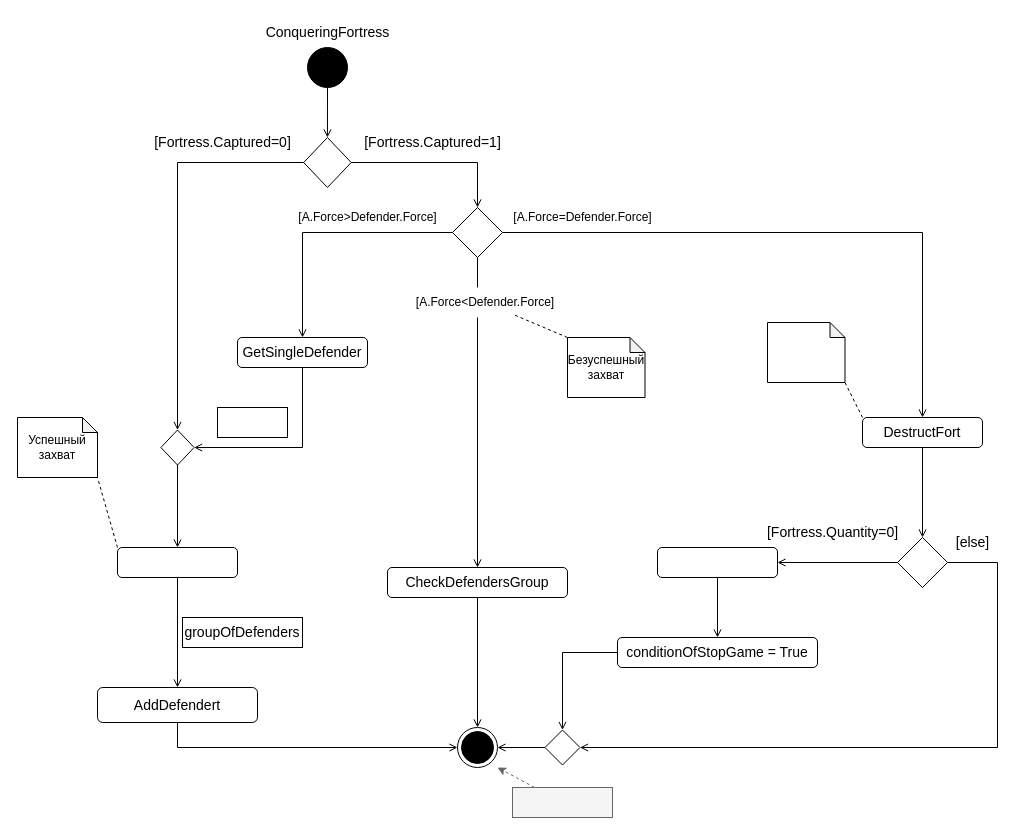
Image size: 1023x835. Some labels were removed from this diagram. The shapes that lost their labels are listed below. From the top down, each one's box as (x1, y1, x2, y2) in pixels, then its label:
(766, 322, 845, 382): Форт разрушен
(216, 406, 288, 438): character
(116, 546, 238, 578): CaptureFort
(656, 546, 778, 578): DefineWinner
(512, 786, 612, 818): Конец хода
